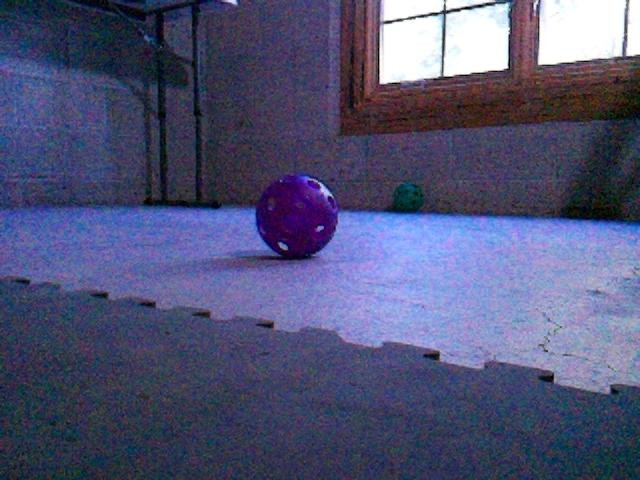Green: (391, 182, 424, 212)
Purple: (254, 173, 340, 259)
